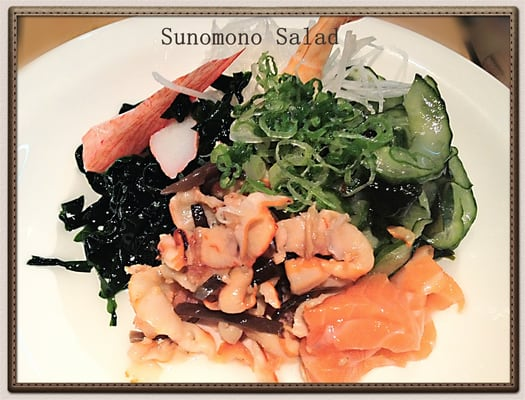pizza: (295, 245, 466, 381)
